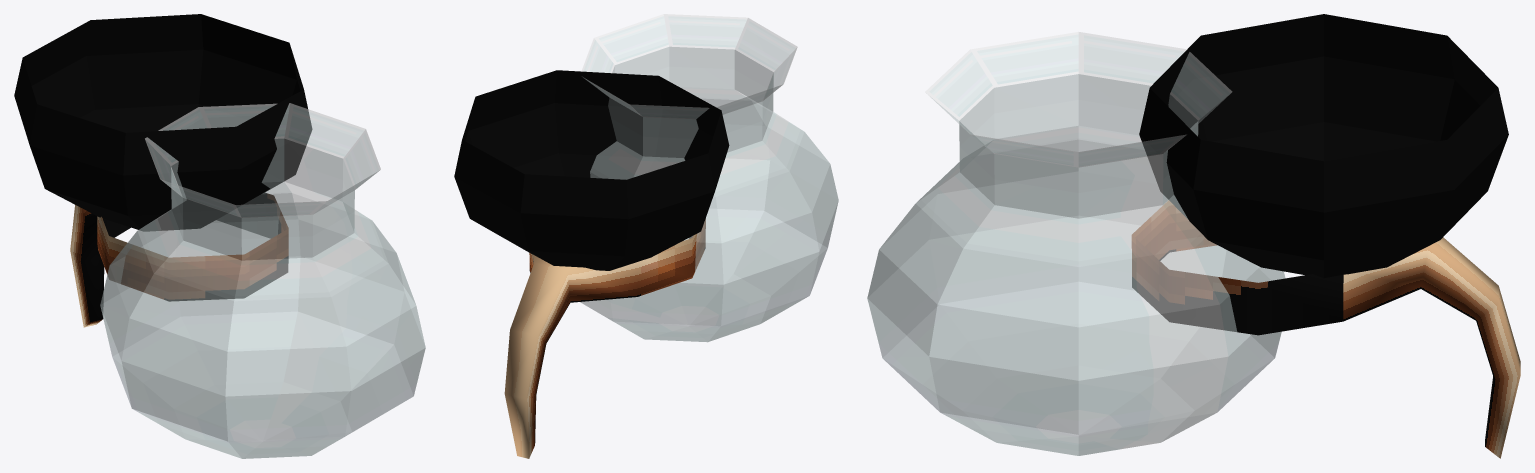
3 views of the same model, side by side, from view 1: azimuth 30°, elevation 25°; view 2: azimuth 150°, elevation 25°; view 3: azimuth 270°, elevation 25° (orthographic). The views are drawn at different scales.
Parts seen in each view (by area): view 1: 1083item554; view 2: 1083item554; view 3: 1083item554.
Boxes of the visible parts, left/top/right/bottom form: 1083item554: left=14, top=14, right=425, bottom=458; 1083item554: left=454, top=14, right=838, bottom=458; 1083item554: left=867, top=14, right=1520, bottom=458.
Size of the model in its own units: 0.3083 by 0.3193 by 0.5151.
3 materials, 3 textured.
